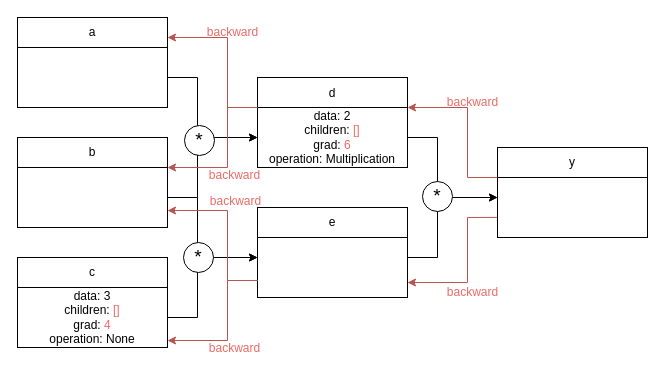
The diagram is 665 pixels wide and 381 high, and some of its shapes have lost their labels. Here are the shapes that lost their labels. From the top down, the centre of each, then its label:
At (x=92, y=77): "data: 1 children: [] grad: 12 operation: None".
At (x=92, y=197): "data: 2 children: [f] grad: 12 operation: None".
At (x=572, y=207): "data: 12 children: [] grad: 1 operation: Multiplication".
At (x=332, y=267): "data: 6 children: [] grad: 2 operation: Multiplication".
